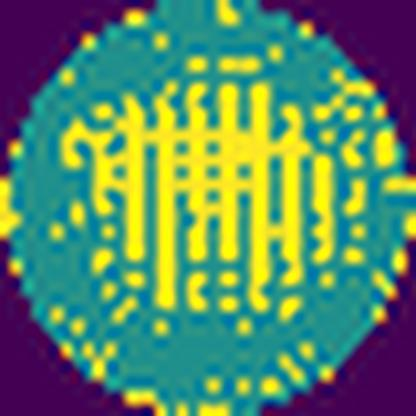Center: (62, 80, 335, 314)
